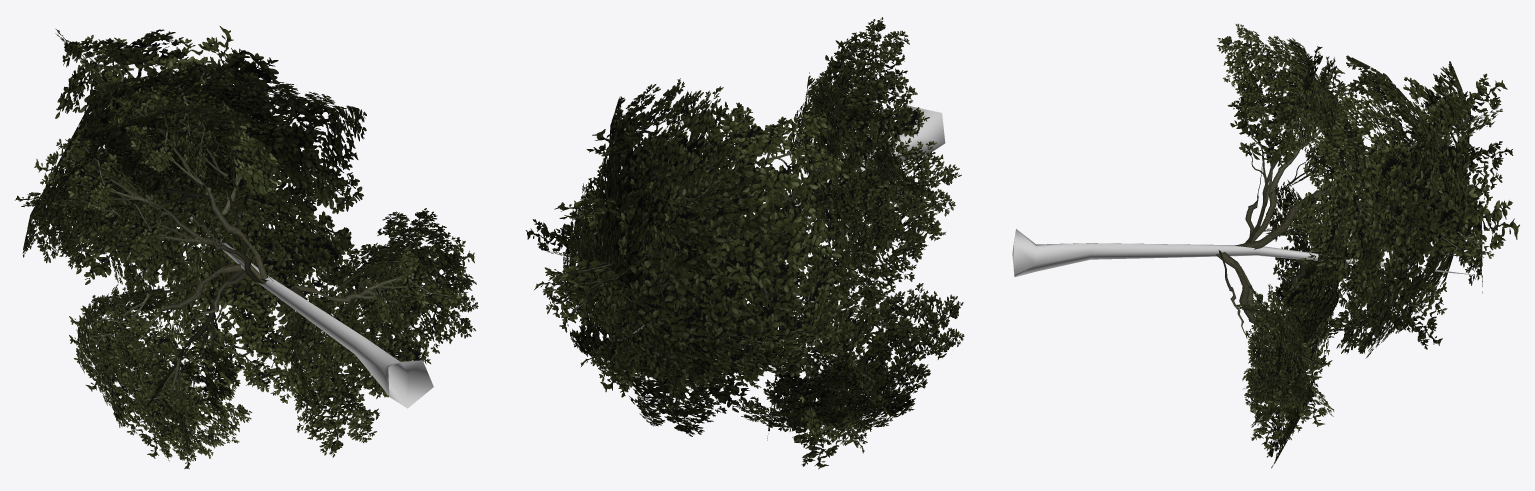
Rendered from Trees_02_d.fbx.
3 views of the same model, side by side, from view 1: azimuth 30°, elevation 25°; view 2: azimuth 150°, elevation 25°; view 3: azimuth 270°, elevation 25° (orthographic). The views are drawn at different scales.
Parts seen in each view (by area): view 1: MEP_Leafs_02_d, MEP_TreeBark_01_d; view 2: MEP_Leafs_02_d, MEP_TreeBark_01_d; view 3: MEP_Leafs_02_d, MEP_TreeBark_01_d.
Part boxes in pixels (<box>): MEP_Leafs_02_d: <box>15,26,478,469</box>; MEP_TreeBark_01_d: <box>183,210,433,408</box>; MEP_Leafs_02_d: <box>525,17,964,469</box>; MEP_TreeBark_01_d: <box>624,105,945,339</box>; MEP_Leafs_02_d: <box>1216,23,1519,468</box>; MEP_TreeBark_01_d: <box>1012,229,1473,277</box>.
Bounding box in the file's own units: 15.15 × 14.21 × 17.52.
